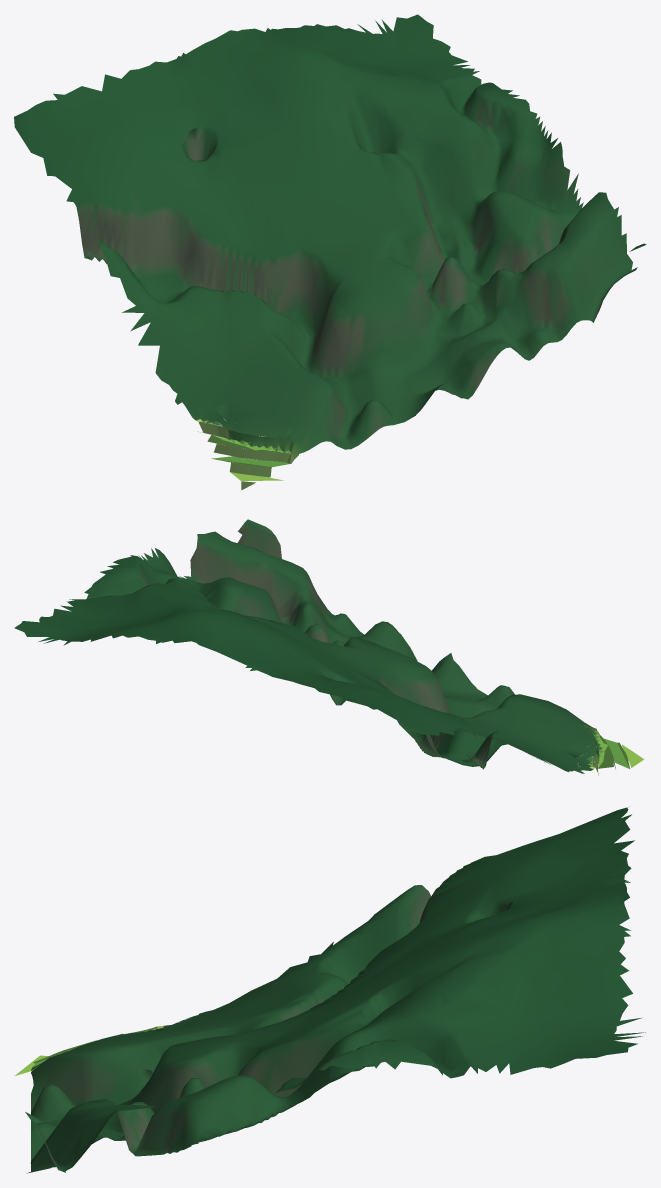
File: payo_land_xm4_y5_lod1.glb
3 views of the same model, one above another, from view 1: azimuth 30°, elevation 25°; view 2: azimuth 150°, elevation 25°; view 3: azimuth 270°, elevation 25° (orthographic). The views are drawn at different scales.
Visible parts, largest first — view 1: payo_land_xm4_y5; view 2: payo_land_xm4_y5; view 3: payo_land_xm4_y5.
Boxes of the visible parts, left/top/right/bottom form: payo_land_xm4_y5: left=14, top=14, right=646, bottom=490; payo_land_xm4_y5: left=14, top=519, right=643, bottom=775; payo_land_xm4_y5: left=15, top=807, right=645, bottom=1173.
Bounding box in the file's own units: 267 × 145 × 272.
